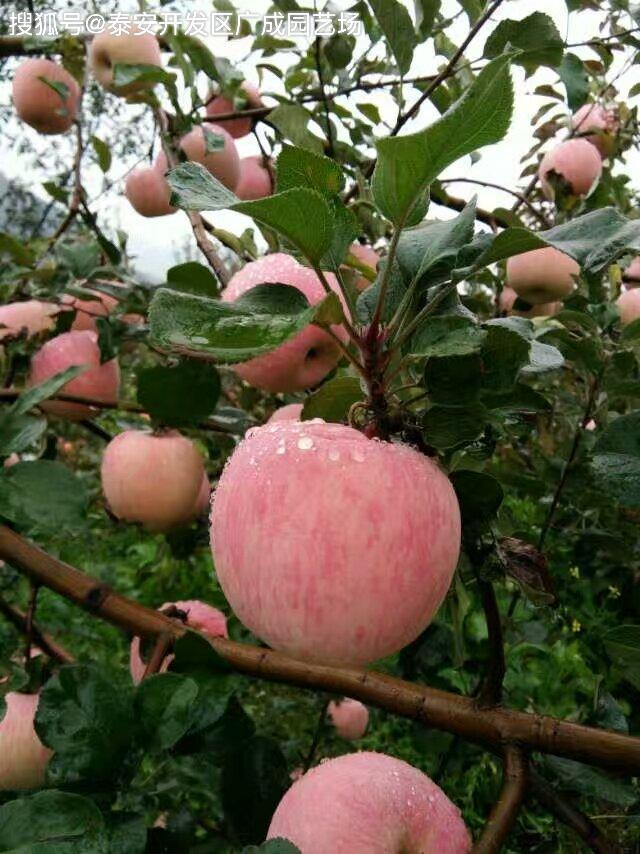apple: (205, 411, 463, 655), (267, 752, 473, 854), (208, 252, 355, 394), (97, 427, 208, 533), (23, 332, 123, 419), (11, 56, 82, 139), (86, 27, 160, 99), (505, 237, 581, 305), (537, 136, 601, 203)
